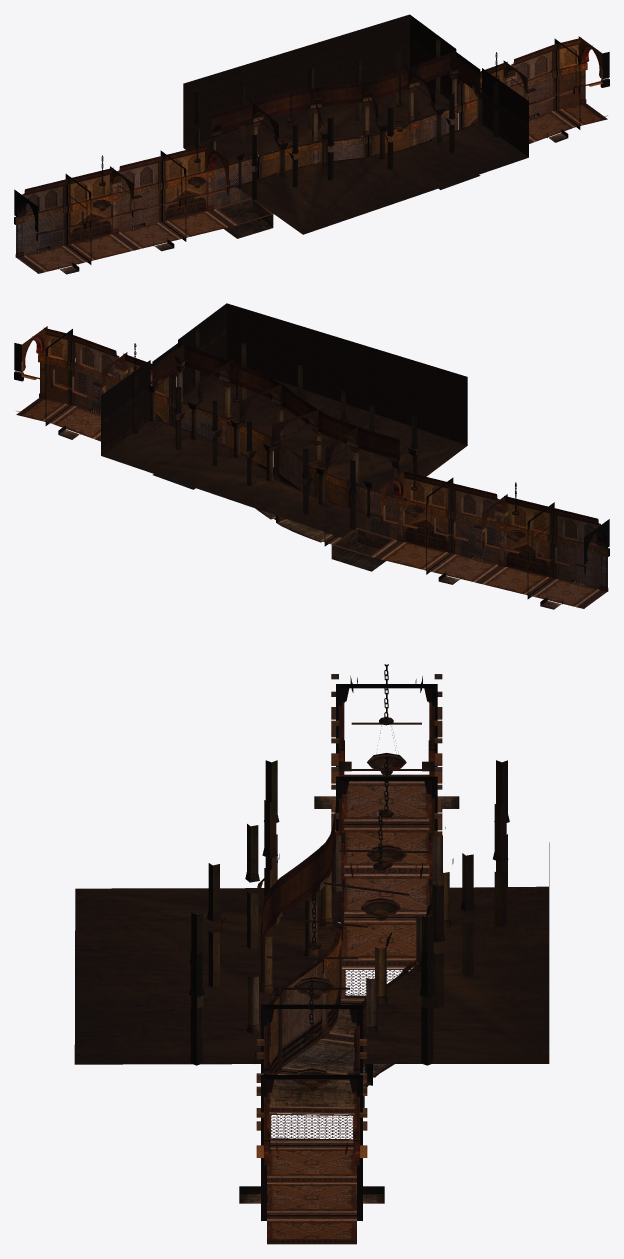
3 renders of one model, top to bottom at view 1: azimuth 30°, elevation 25°; view 2: azimuth 150°, elevation 25°; view 3: azimuth 270°, elevation 25°, orthographic. The views are drawn at different scales.
Parts seen in each view (by area): view 1: stg030_o19_Mesh_28, stg030_o19_Mesh_6, stg030_o19_Mesh_32, stg030_o19_Mesh_23, stg030_o19_Mesh_4, stg030_o19_Mesh_19, stg030_o19_Mesh_29, stg030_o19_Mesh_21, stg030_o19_Mesh_11, stg030_o19_Mesh_31, stg030_o19_Mesh_17, stg030_o19_Mesh_33 (+6 smaller); view 2: stg030_o19_Mesh_6, stg030_o19_Mesh_28, stg030_o19_Mesh_32, stg030_o19_Mesh_23, stg030_o19_Mesh_29, stg030_o19_Mesh_4, stg030_o19_Mesh_19, stg030_o19_Mesh_21, stg030_o19_Mesh_33, stg030_o19_Mesh_11, stg030_o19_Mesh_31, stg030_o19_Mesh_17 (+6 smaller); view 3: stg030_o19_Mesh_28, stg030_o19_Mesh_32, stg030_o19_Mesh_21, stg030_o19_Mesh_29, stg030_o19_Mesh_33, stg030_o19_Mesh_31, stg030_o19_Mesh_19, stg030_o19_Mesh_2, stg030_o19_Mesh_6, stg030_p19_Mesh_1, stg030_o19_Mesh_23, stg030_o19_Mesh_11 (+5 smaller).
Part boxes in pixels (<box>): stg030_o19_Mesh_28: <box>22,39,578,234</box>; stg030_o19_Mesh_6: <box>14,14,609,270</box>; stg030_o19_Mesh_32: <box>25,104,602,271</box>; stg030_o19_Mesh_23: <box>19,46,591,269</box>; stg030_o19_Mesh_4: <box>15,37,607,273</box>; stg030_o19_Mesh_19: <box>14,60,609,241</box>; stg030_o19_Mesh_29: <box>24,46,602,271</box>; stg030_o19_Mesh_21: <box>62,38,582,264</box>; stg030_o19_Mesh_11: <box>211,55,480,130</box>; stg030_o19_Mesh_31: <box>16,44,607,273</box>; stg030_o19_Mesh_17: <box>16,37,603,252</box>; stg030_o19_Mesh_33: <box>38,114,567,274</box>; stg030_o19_Mesh_6: <box>14,303,609,605</box>; stg030_o19_Mesh_28: <box>47,328,600,541</box>; stg030_o19_Mesh_32: <box>22,399,597,606</box>; stg030_o19_Mesh_23: <box>34,337,604,604</box>; stg030_o19_Mesh_29: <box>21,336,599,606</box>; stg030_o19_Mesh_4: <box>16,328,608,608</box>; stg030_o19_Mesh_19: <box>14,352,609,574</box>; stg030_o19_Mesh_21: <box>43,329,558,599</box>; stg030_o19_Mesh_33: <box>59,409,585,609</box>; stg030_o19_Mesh_11: <box>152,347,399,456</box>; stg030_o19_Mesh_31: <box>16,334,606,608</box>; stg030_o19_Mesh_17: <box>21,327,607,586</box>; stg030_o19_Mesh_28: <box>74,760,549,1065</box>; stg030_o19_Mesh_32: <box>267,783,429,1238</box>; stg030_o19_Mesh_21: <box>261,684,437,1220</box>; stg030_o19_Mesh_29: <box>256,674,442,1220</box>; stg030_o19_Mesh_33: <box>239,796,459,1203</box>; stg030_o19_Mesh_31: <box>264,740,434,1244</box>; stg030_o19_Mesh_19: <box>264,701,434,1165</box>; stg030_o19_Mesh_2: <box>294,717,406,1090</box>; stg030_o19_Mesh_6: <box>239,842,549,1194</box>; stg030_p19_Mesh_1: <box>269,968,411,1141</box>; stg030_o19_Mesh_23: <box>189,814,509,1202</box>; stg030_o19_Mesh_11: <box>260,815,335,960</box>.
Bounding box in the file's own units: 85.38 × 19.44 × 31.7.
20 materials, 20 textured.
